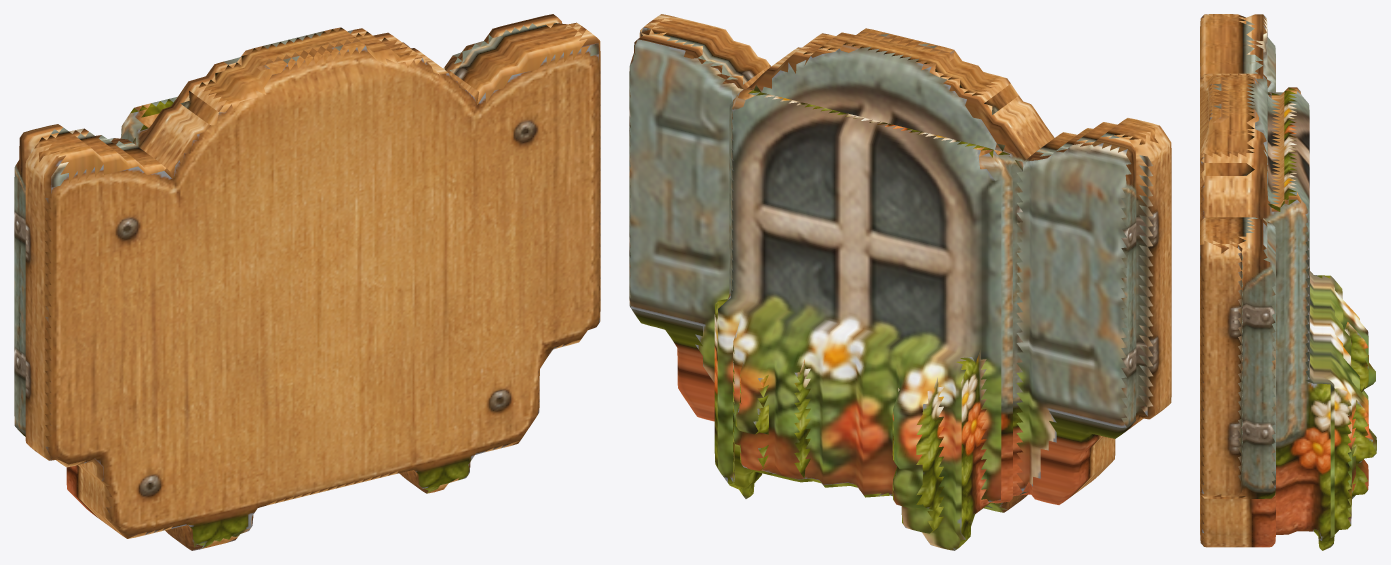
Rendered from bakery-window.glb.
3 renders of one model, left to right at view 1: azimuth 30°, elevation 25°; view 2: azimuth 150°, elevation 25°; view 3: azimuth 270°, elevation 25°, orthographic. The views are drawn at different scales.
Bounding box in the file's own units: 1.22 × 0.9992 × 0.3939.
Materials: 1 (1 with a texture image).
